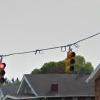Traffic light: (63, 42, 86, 76)
